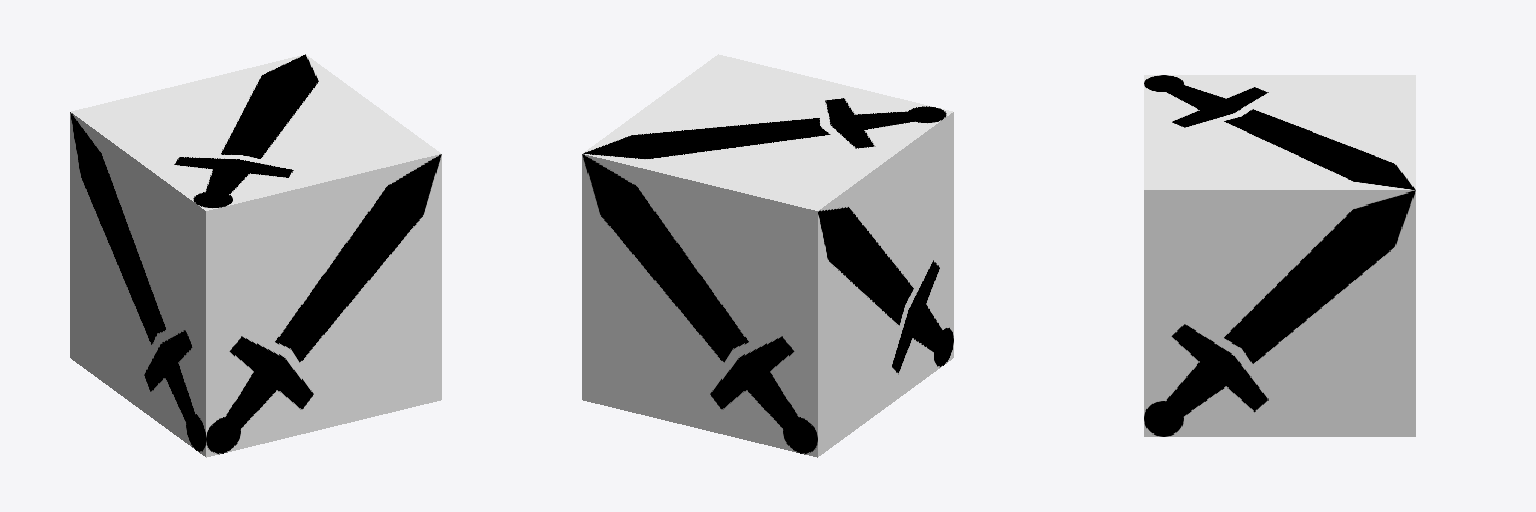
3 views of the same model, side by side, from view 1: azimuth 30°, elevation 25°; view 2: azimuth 150°, elevation 25°; view 3: azimuth 270°, elevation 25° (orthographic).
Parts seen in each view (by area): view 1: pCube1; view 2: pCube1; view 3: pCube1.
Boxes of the visible parts, x1=… form: pCube1: x1=70, y1=54, x2=441, y2=457; pCube1: x1=582, y1=54, x2=953, y2=457; pCube1: x1=1144, y1=75, x2=1415, y2=436.
Size of the model in its own units: 2 by 2 by 2.
Materials: 1 (1 with a texture image).